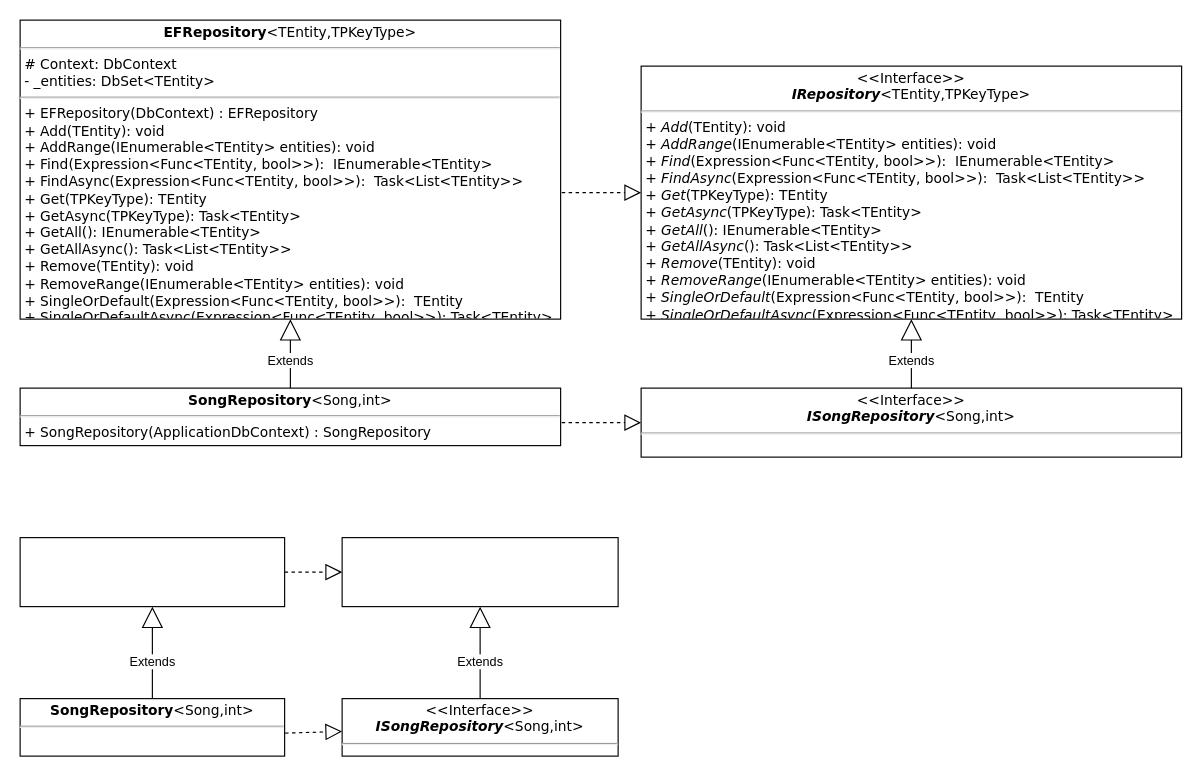
The diagram is 1202 pixels wide and 776 high, and some of its shapes have lost their labels. Each missing label, with the box of its shape:
<<Interface>> IRepository <TEntity,TPKeyType>: (341, 536, 618, 607)
EFRepository <TEntity,TPKeyType>: (19, 536, 285, 607)
